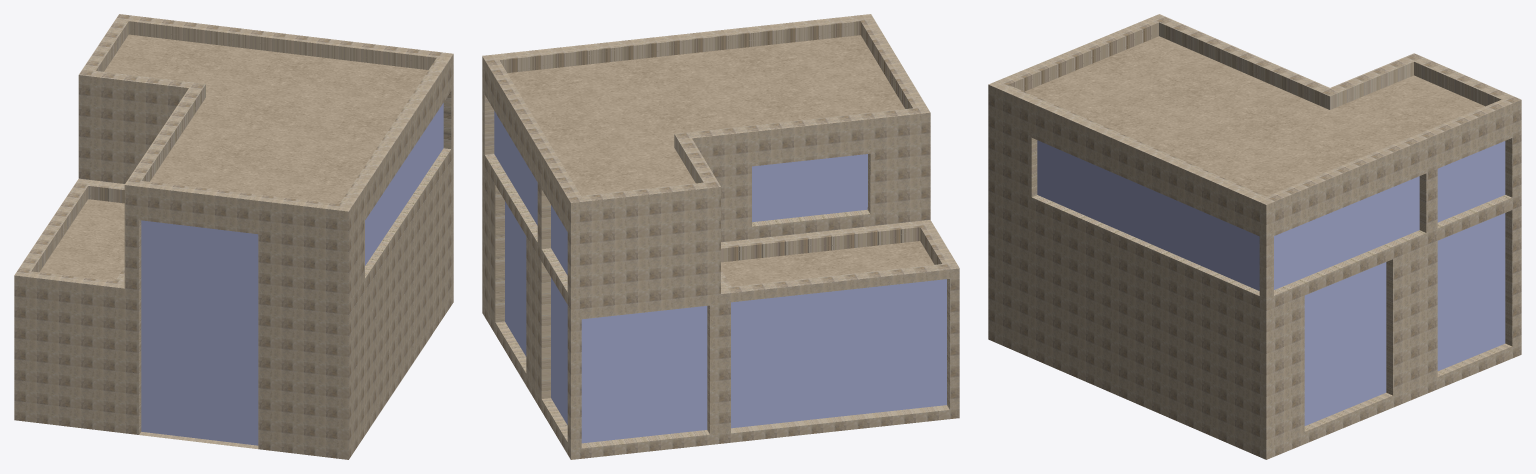
3 renders of one model, left to right at view 1: azimuth 30°, elevation 25°; view 2: azimuth 150°, elevation 25°; view 3: azimuth 270°, elevation 25°, orthographic. The views are drawn at different scales.
Visible parts, largest first — view 1: Cube.016; view 2: Cube.016; view 3: Cube.016.
Boxes of the visible parts, x1,y1,x2,y2 form: Cube.016: (14,14,453,459); Cube.016: (482,14,959,459); Cube.016: (988,14,1521,459).
Bounding box in the file's own units: 18.65 × 9.82 × 18.63.
Materials: 3 (2 with a texture image).
